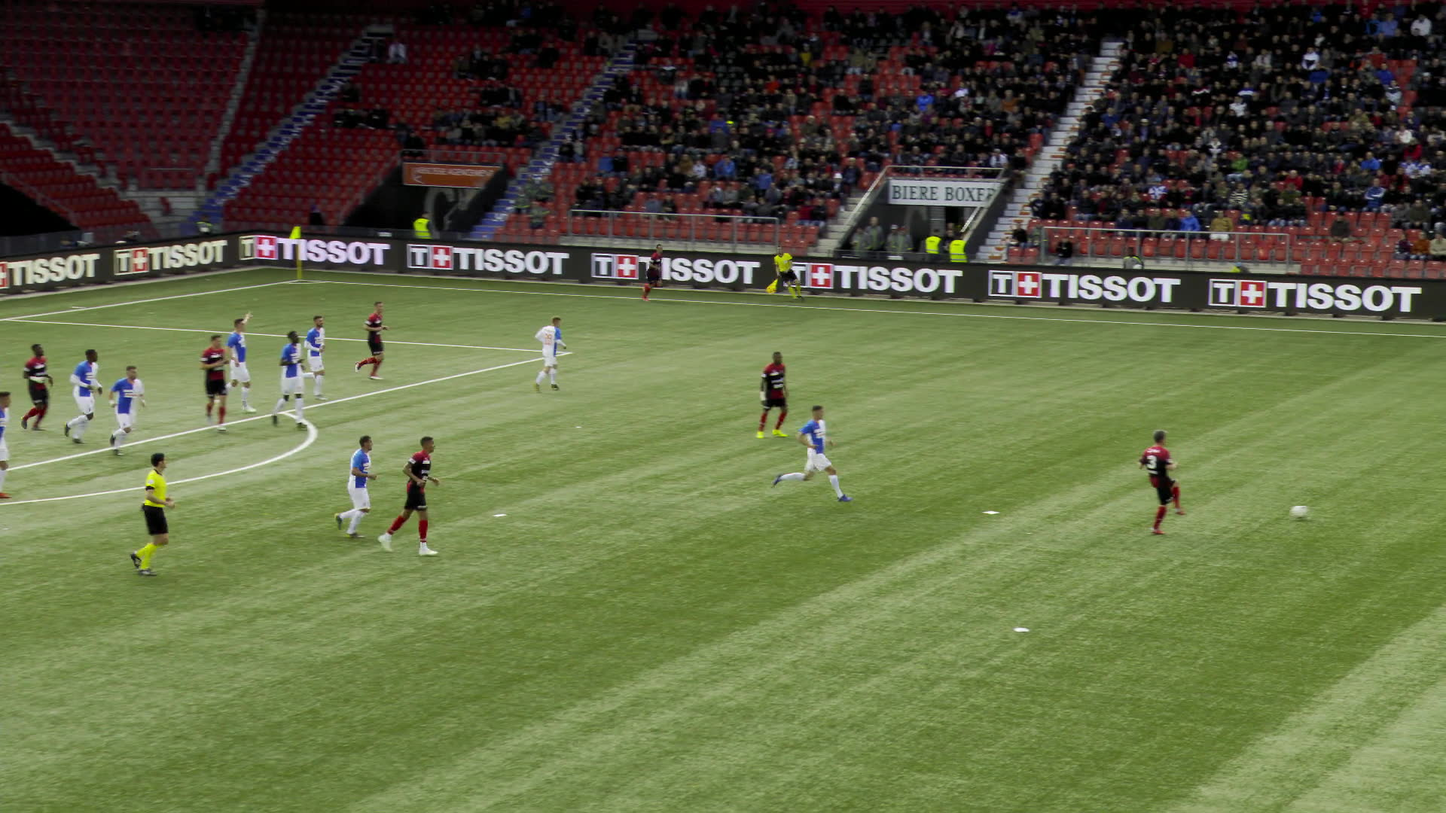ball: (1279, 505, 1297, 516)
player: (769, 406, 853, 503), (376, 434, 441, 556), (1135, 428, 1185, 534), (331, 434, 380, 538), (213, 308, 258, 414), (61, 347, 102, 446), (269, 330, 307, 431), (108, 364, 147, 457), (751, 350, 789, 439), (197, 333, 230, 431), (19, 342, 53, 430), (531, 315, 566, 393), (355, 300, 389, 380), (303, 315, 329, 401), (0, 390, 16, 498), (639, 244, 664, 302)
referee: (128, 451, 178, 576), (765, 245, 804, 303)
